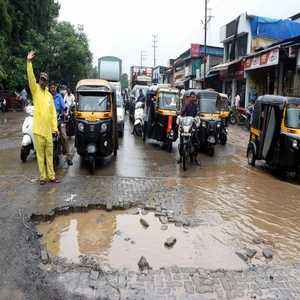pothole: (24, 203, 197, 274)
